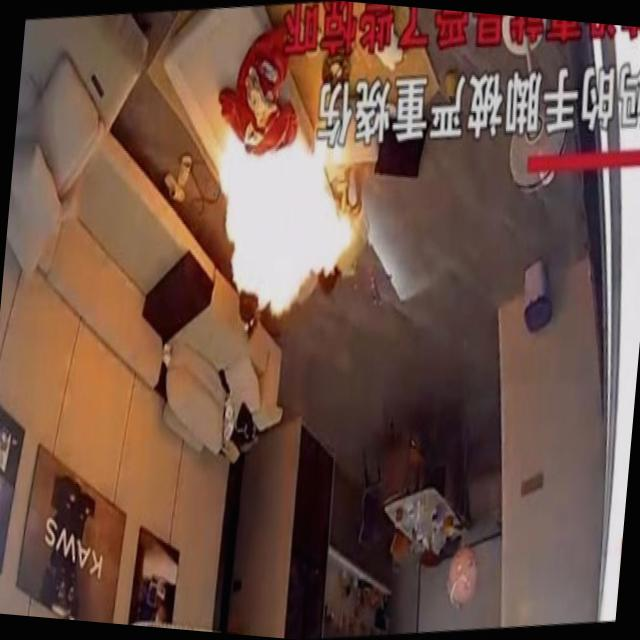fire: (203, 101, 355, 348)
